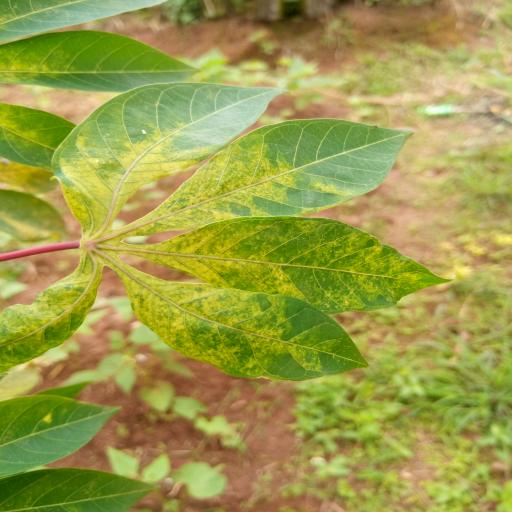Cassava_Mosaic: (0, 72, 438, 398)
